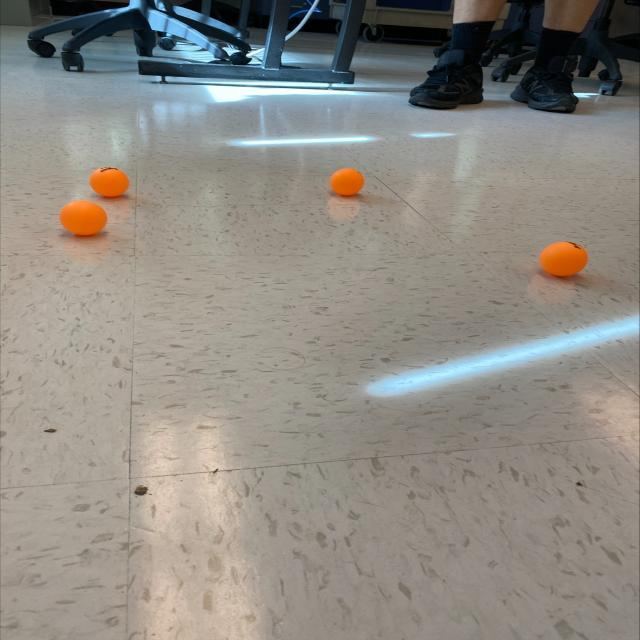ping-pong-ball: (536, 238, 590, 278), (55, 198, 108, 238), (86, 164, 131, 199), (327, 166, 367, 196)
